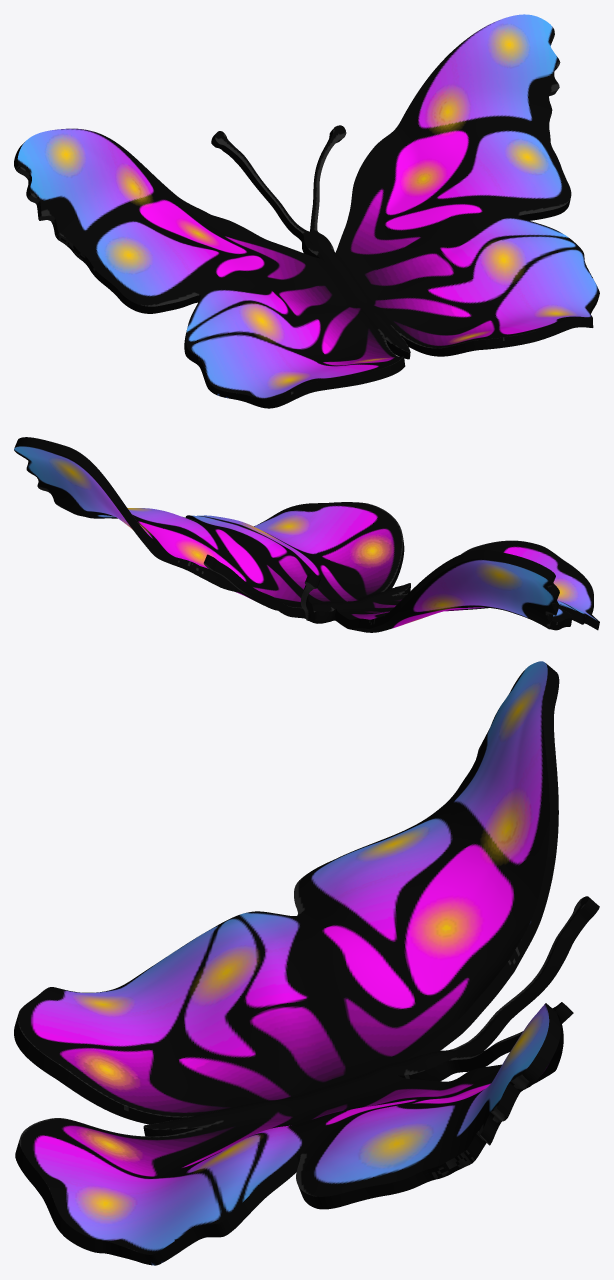
File: 32809140-butterfly-42.glb
3 views of the same model, one above another, from view 1: azimuth 30°, elevation 25°; view 2: azimuth 150°, elevation 25°; view 3: azimuth 270°, elevation 25° (orthographic). The views are drawn at different scales.
Parts seen in each view (by area): view 1: path1; view 2: path1; view 3: path1.
Boxes of the visible parts, <box> form: path1: <box>14,14,599,408</box>; path1: <box>14,437,599,632</box>; path1: <box>14,661,599,1265</box>.
Bounding box in the file's own units: 0.2305 × 0.0788 × 0.1417.
Materials: 2 (1 with a texture image).
